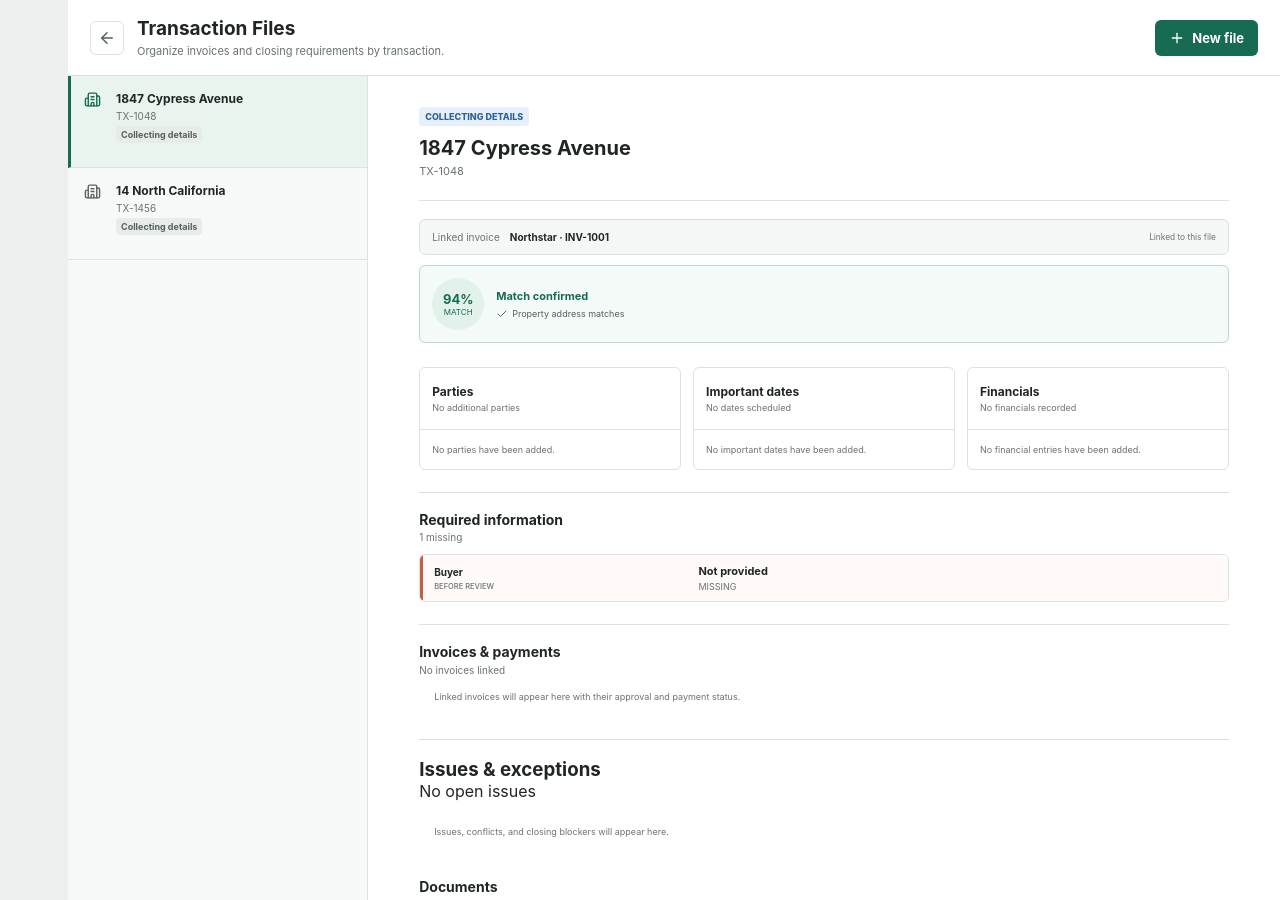
Test: Transaction workspace › shows a linked invoice and its accepted score only in the owning file
Expected: the text "Linked to this file" is shown, left=1149, top=232, right=1216, bottom=242
Expected: the text "94%" is shown, left=443, top=291, right=473, bottom=307
Click the button "14 North California TX-1456 Collecting details" at (171, 190), box left=68, top=168, right=367, bottom=260
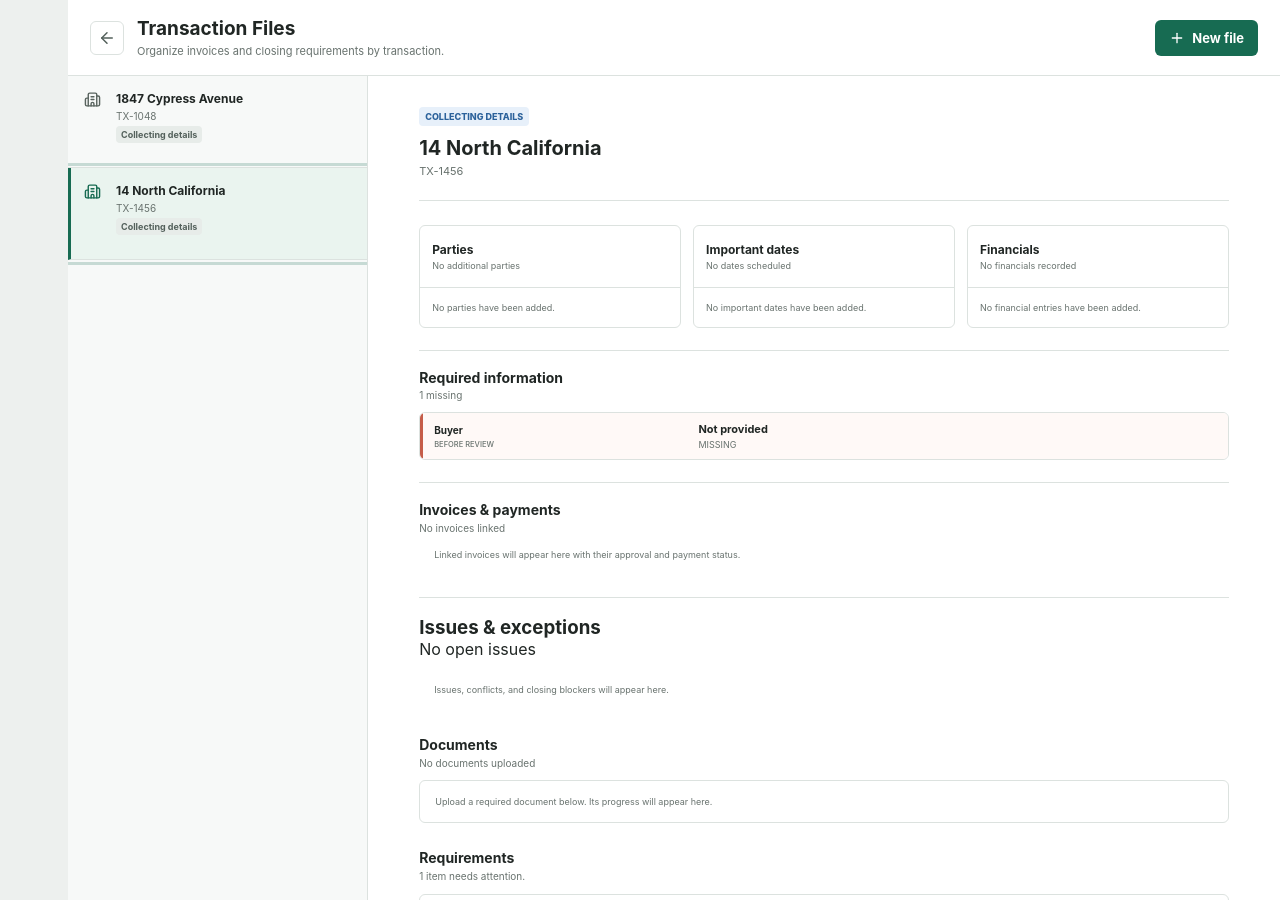
Now the text "Linked to this file" is gone
Now the text "94%" is gone
